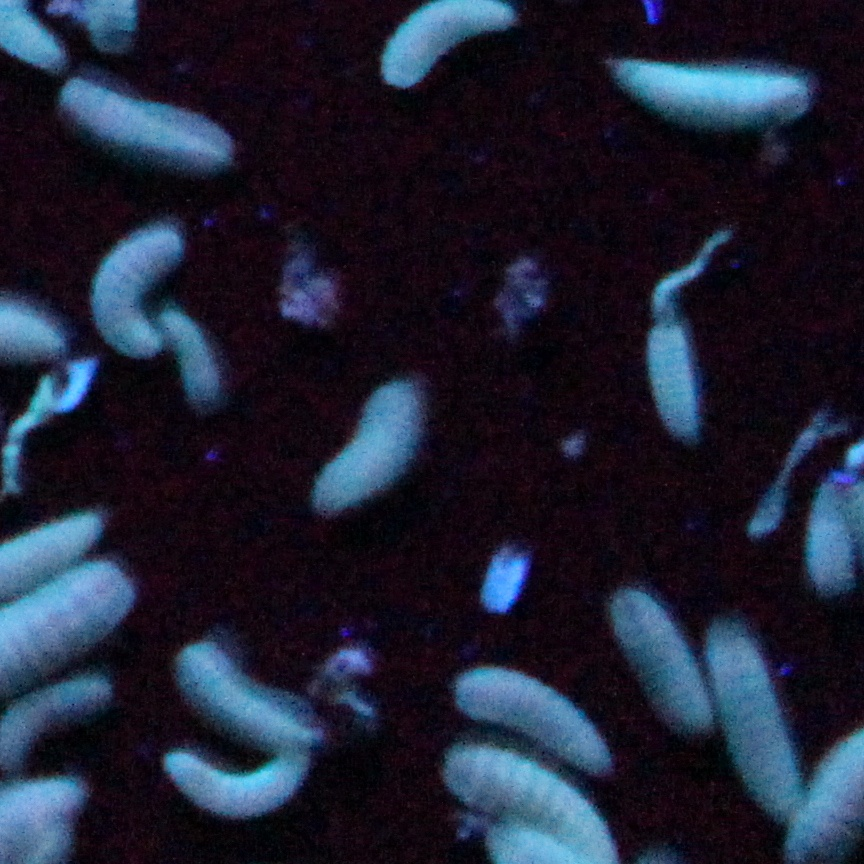larve: (444, 743, 613, 860), (455, 668, 614, 775), (711, 632, 798, 816), (67, 75, 233, 165), (612, 590, 710, 739), (313, 380, 421, 510), (613, 58, 810, 124), (183, 648, 318, 744), (90, 229, 180, 359), (164, 752, 305, 819), (162, 308, 222, 407), (650, 322, 699, 442), (805, 487, 854, 595)
